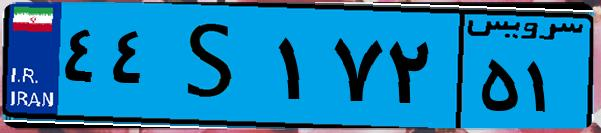1: (270, 28, 330, 110), (525, 38, 570, 115)
2: (385, 28, 445, 110)
4: (57, 26, 110, 100), (110, 28, 158, 98)
5: (475, 38, 525, 113)
7: (330, 28, 385, 110)
S: (158, 12, 270, 120)
